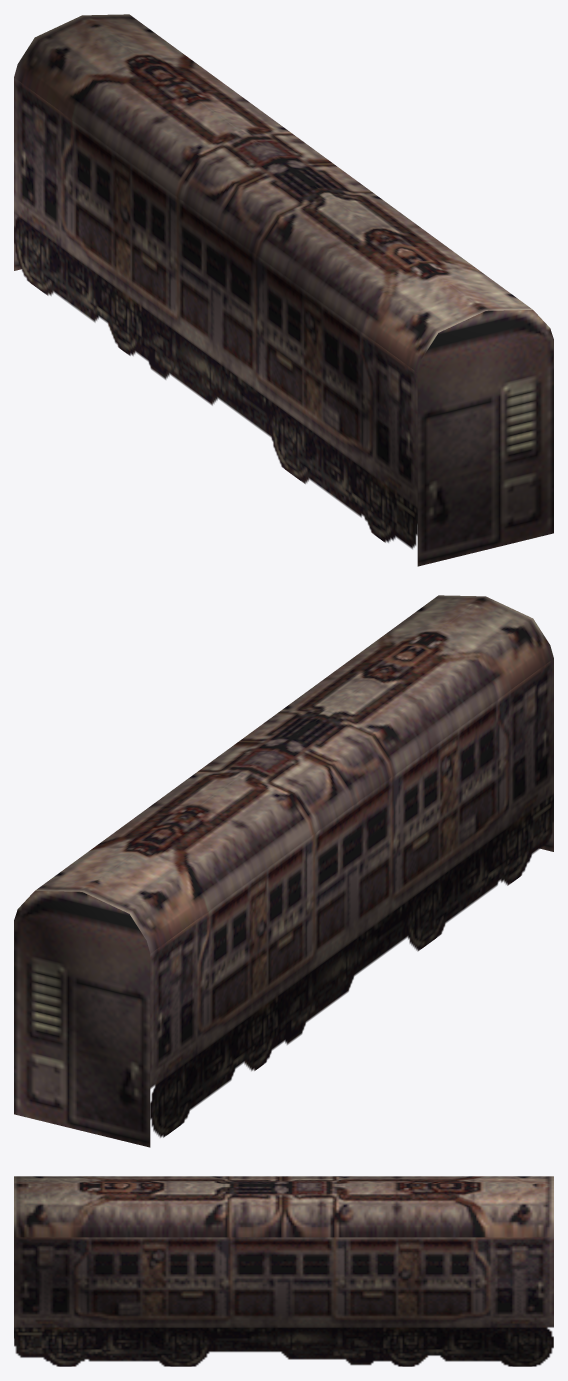
Rendered from cnhf.hrc.gltf.
The picture shows the model from 3 angles, top to bottom: view 1: azimuth 30°, elevation 25°; view 2: azimuth 150°, elevation 25°; view 3: azimuth 270°, elevation 25°; orthographic projection. The views are drawn at different scales.
Parts seen in each view (by area): view 1: cnhfBone0_null; view 2: cnhfBone0_null; view 3: cnhfBone0_null.
Part boxes in pixels (x1,y1,x2,y2): cnhfBone0_null: (14, 14, 553, 566); cnhfBone0_null: (14, 595, 553, 1147); cnhfBone0_null: (14, 1176, 553, 1366).
Size of the model in its own units: 55.15 by 92.45 by 283.
Materials: 2 (2 with a texture image).
